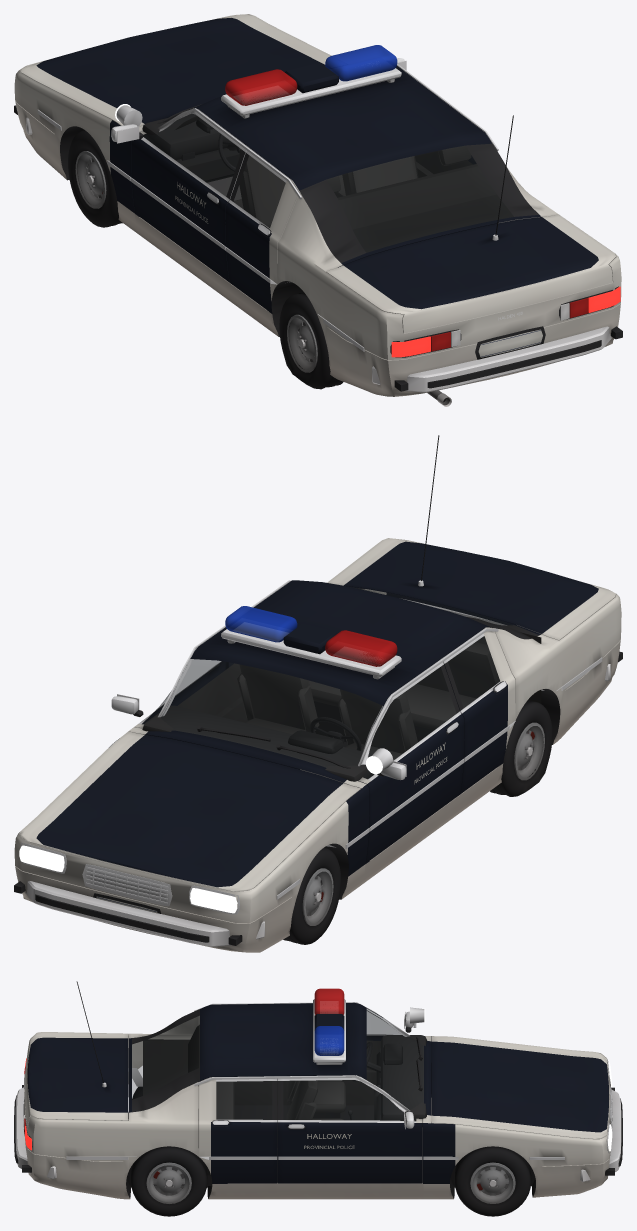
Rendered from police_cruiser.glb.
3 renders of one model, top to bottom at view 1: azimuth 30°, elevation 25°; view 2: azimuth 150°, elevation 25°; view 3: azimuth 270°, elevation 25°, orthographic. The views are drawn at different scales.
Visible parts, largest first — view 1: police_cruiser_body, wheel_rl, wheel_fl, lamp_tail_l; view 2: police_cruiser_body, wheel_rl, wheel_fl, lamp_head_l, lamp_head_r; view 3: police_cruiser_body, wheel_rr, wheel_fr.
Part boxes in pixels (bbox=[...]): police_cruiser_body: bbox=[14, 14, 622, 406]; wheel_rl: bbox=[279, 292, 343, 389]; wheel_fl: bbox=[68, 130, 122, 227]; lamp_tail_l: bbox=[391, 336, 430, 357]; police_cruiser_body: bbox=[14, 435, 622, 952]; wheel_rl: bbox=[490, 700, 552, 796]; wheel_fl: bbox=[283, 847, 341, 944]; lamp_head_l: bbox=[190, 756, 382, 913]; lamp_head_r: bbox=[19, 845, 64, 871]; police_cruiser_body: bbox=[14, 981, 622, 1199]; wheel_rr: bbox=[131, 1146, 207, 1216]; wheel_fr: bbox=[455, 1146, 531, 1216].
Bounding box in the file's own units: 2.36 × 2.09 × 5.55.
